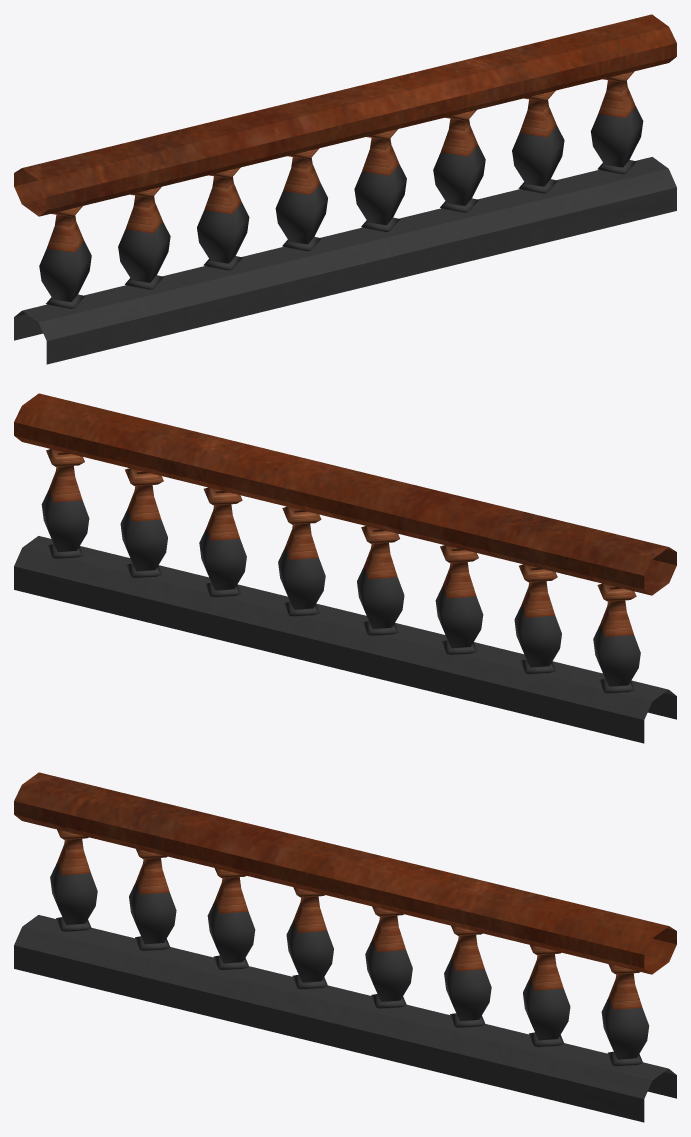
File: Railing_01_Art.fbx
3 renders of one model, top to bottom at view 1: azimuth 30°, elevation 25°; view 2: azimuth 150°, elevation 25°; view 3: azimuth 330°, elevation 25°, orthographic.
Parts seen in each view (by area): view 1: Railing_01; view 2: Railing_01; view 3: Railing_01.
Part boxes in pixels (<box>): Railing_01: <box>14,14,676,364</box>; Railing_01: <box>14,393,676,743</box>; Railing_01: <box>14,772,676,1122</box>.
Size of the model in its own units: 400 by 108 by 38.49.
